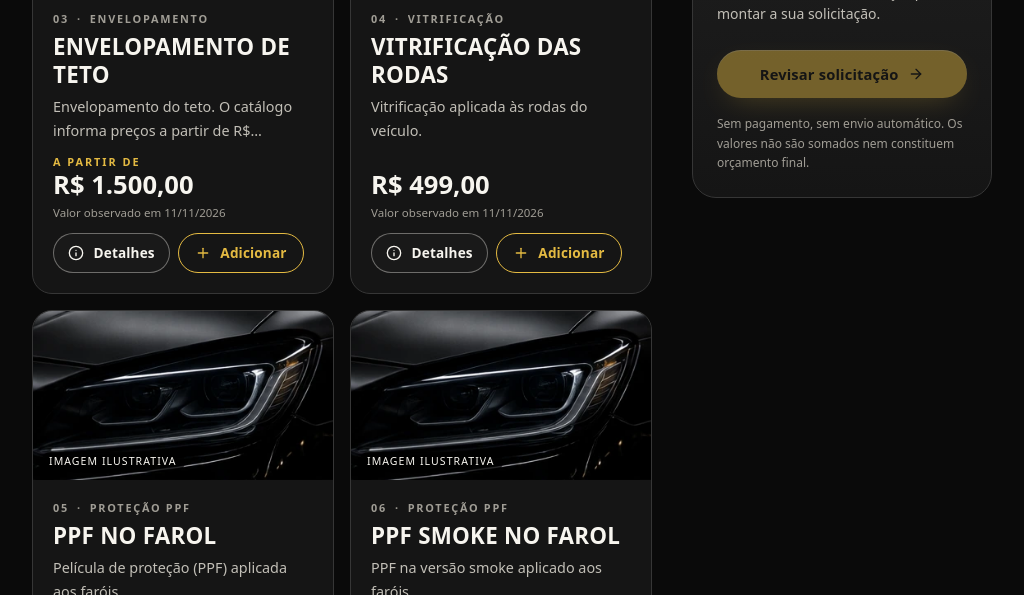
Test: App › "Detalhes" abre a ficha do serviço com preço observado e permite selecionar
Later steps or results of the test are not shown.
(page scrolled)
Click the button with aria-label "Detalhes de Envelopamento de teto" at (111, 253), box [53,233,170,273]
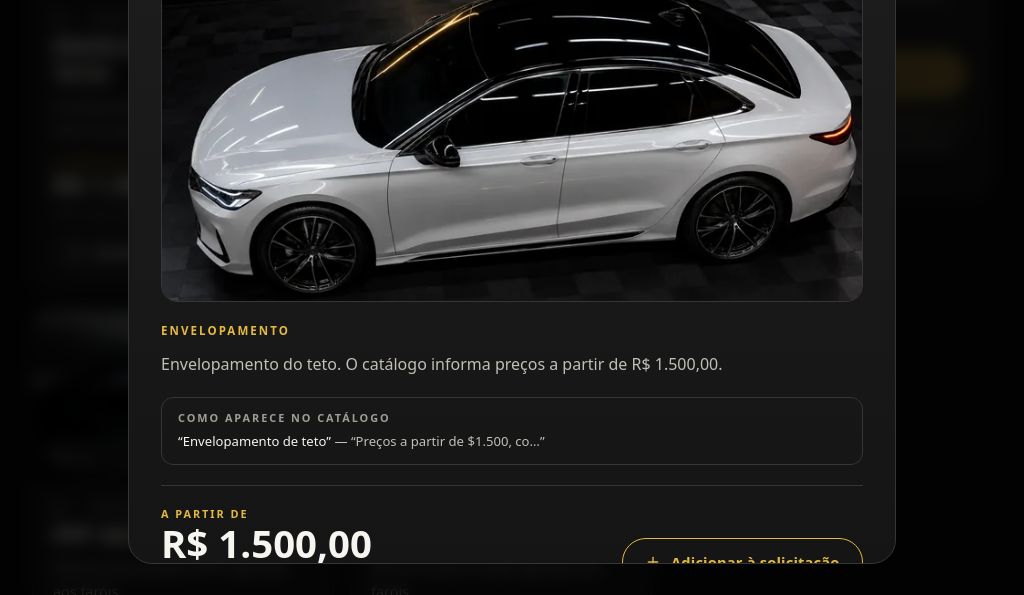
Expected: the text "A partir de" is shown, [161,506,248,521]
Expected: the text "R$ 1.500,00" is shown, [161,524,372,563]
Click the button "Adicionar à solicitação" at (742, 562), box [622,538,863,586]
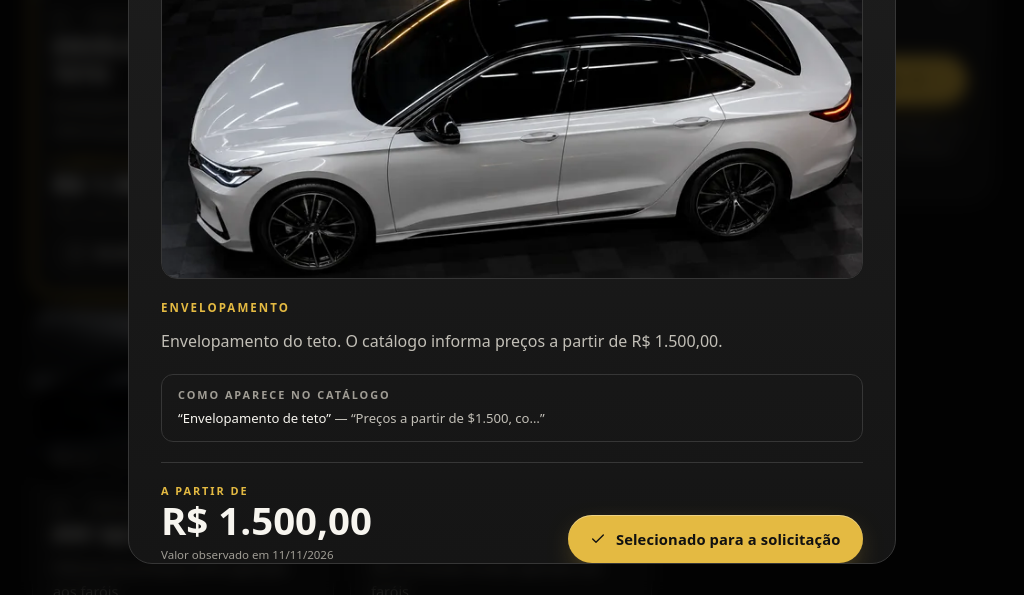
Expected: the button "Selecionado para a solicitação" is pressed, [568,515,863,563]
